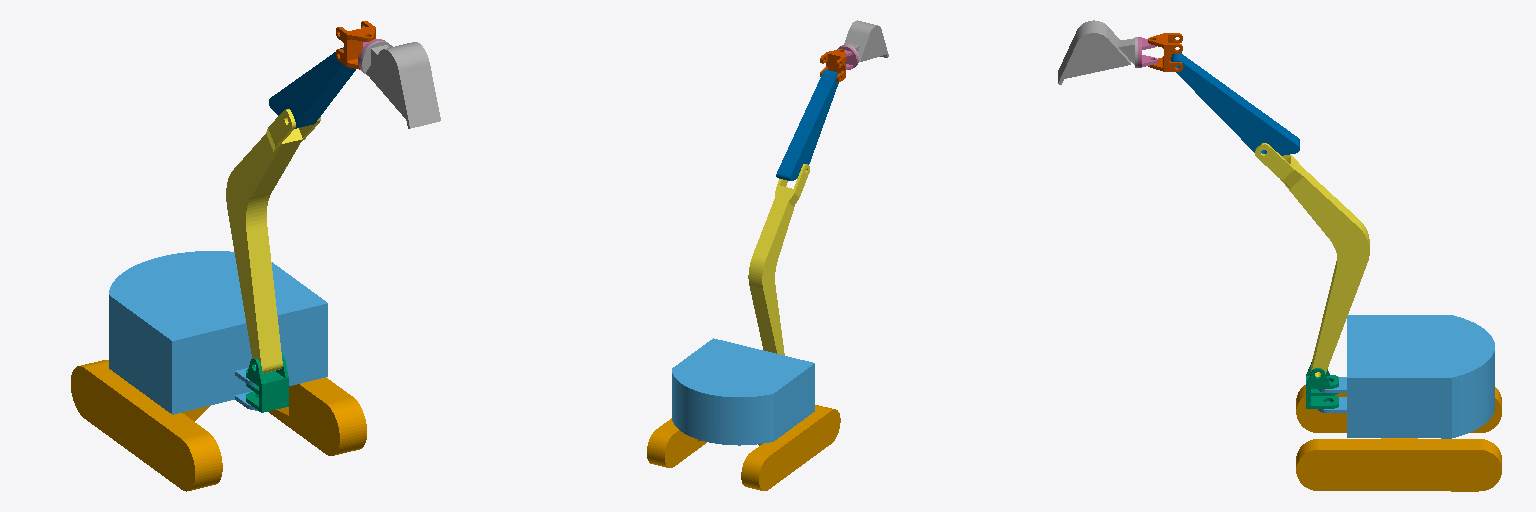
URDF robot description (bagger_kinematics_3):
<?xml version="1.0" ?>
<robot name="bagger_kinematics_3" xmlns:xacro="http://www.ros.org/wiki/xacro">

  <mujoco>
    <compiler meshdir="meshes/" balanceinertia="true" discardvisual="false"/>
  </mujoco>

<link name="base_link">
  <inertial>
    <origin xyz="0 0 0" rpy="0 0 0"/>
    <mass value="1"/>
    <inertia ixx="1" iyy="1" izz="1" ixy="0.0" iyz="0.0" ixz="0.0"/>
  </inertial>
  <visual>
    <origin xyz="0 0 0" rpy="1.57 0 0"/>
    <geometry>
      <mesh filename="base_link.stl" scale="0.001 0.001 0.001"/>
    </geometry>
    <material name="silver"/>
  </visual>
</link>

<link name="swing_body_1">
  <inertial>
    <origin xyz="0 0 0" rpy="0 0 0"/>
    <mass value="1"/>
    <inertia ixx="1" iyy="1" izz="1" ixy="0.0" iyz="0.0" ixz="0.0"/>
  </inertial>
  <visual>
    <origin xyz="0.0 0.0 0.0" rpy="0 0 0"/>
    <geometry>
      <mesh filename="swing_body_1.stl" scale="0.001 0.001 0.001"/>
    </geometry>
    <material name="silver"/>
  </visual>
</link>

<link name="bom_swing_1">
  <inertial>
    <origin xyz="0 0 0" rpy="0 0 0"/>
    <mass value="1"/>
    <inertia ixx="1" iyy="1" izz="1" ixy="0.0" iyz="0.0" ixz="0.0"/>
  </inertial>
  <visual>
    <origin xyz="0 0 0" rpy="0 0 0"/>
    <geometry>
      <mesh filename="bom_swing_1.stl" scale="0.001 0.001 0.001"/>
    </geometry>
    <material name="silver"/>
  </visual>
</link>

<link name="boom_1">
  <inertial>
    <origin xyz="0 0 0" rpy="0 0 0"/>
    <mass value="1"/>
    <inertia ixx="1" iyy="1" izz="1" ixy="0.0" iyz="0.0" ixz="0.0"/>
  </inertial>
  <visual>
    <origin xyz="0 0 0" rpy="0 0 0"/>
    <geometry>
      <mesh filename="boom_1.stl" scale="0.001 0.001 0.001"/>
    </geometry>
    <material name="silver"/>
  </visual>
</link>

<link name="stick_1">
  <inertial>
    <origin xyz="0 0 0" rpy="0 0 0"/>
    <mass value="1"/>
    <inertia ixx="1" iyy="1" izz="1" ixy="0.0" iyz="0.0" ixz="0.0"/>
  </inertial>
  <visual>
    <origin xyz="0 0 0" rpy="0 0 0"/>
    <geometry>
      <mesh filename="stick_1.stl" scale="0.001 0.001 0.001"/>
    </geometry>
    <material name="silver"/>
  </visual>

</link>

<link name="tilt_base_1">
  <inertial>
    <origin xyz="0 0 0" rpy="0 0 0"/>
    <mass value="1"/>
    <inertia ixx="1" iyy="1" izz="1" ixy="0.0" iyz="0.0" ixz="0.0"/>
  </inertial>
  <visual>
     <origin xyz="0 0 0" rpy="0 0 0"/>
    <geometry>
      <mesh filename="tilt_base_1.stl" scale="0.001 0.001 0.001"/>
    </geometry>
    <material name="silver"/>
  </visual>
</link>

<link name="tilt_1">
  <inertial>
    <origin xyz="0 0 0" rpy="0 0 0"/>
    <mass value="1"/>
    <inertia ixx="1" iyy="1" izz="1" ixy="0.0" iyz="0.0" ixz="0.0"/>
  </inertial>
  <visual>
     <origin xyz="0 0 0" rpy="0 0 0"/>
    <geometry>
      <mesh filename="tilt_1.stl" scale="0.001 0.001 0.001"/>
    </geometry>
    <material name="silver"/>
  </visual>
</link>

<link name="bucket_1">
  <inertial>
    <origin xyz="0 0 0" rpy="0 0 0"/>
    <mass value="1"/>
    <inertia ixx="1" iyy="1" izz="1" ixy="0.0" iyz="0.0" ixz="0.0"/>
  </inertial>
  <visual>
     <origin xyz="0 0 0" rpy="0 0 0"/>
    <geometry>
      <mesh filename="bucket_1.stl" scale="0.001 0.001 0.001"/>
    </geometry>
    <material name="silver"/>
  </visual>
</link>

<joint name="Revolute 1" type="continuous">
  <origin xyz="0.0 0.0 0.0" rpy="1.57 0 0"/>
  <parent link="base_link"/>
  <child link="swing_body_1"/>
  <axis xyz="0.0 1.0 0.0"/>
</joint>

<joint name="Revolute 2" type="continuous">
  <origin xyz="0 0.1 0.950" rpy="0 0 0"/>
  <parent link="swing_body_1"/>
  <child link="bom_swing_1"/>
  <axis xyz="0.0 -1.0 0.0"/>
</joint>

<joint name="Revolute 3" type="continuous">
  <origin xyz="0.135 0.5 0.140" rpy="0 0 0"/>
  <parent link="bom_swing_1"/>
  <child link="boom_1"/>
  <axis xyz="1.0 0.0 0.0"/>
</joint>

<joint name="Revolute 4" type="continuous">
  <origin xyz="0.0 3.310 0.734" rpy="0 0 0"/>
  <parent link="boom_1"/>
  <child link="stick_1"/>
  <axis xyz="1.0 0.0 0.0"/>
</joint>

<joint name="Revolute 5" type="continuous">
  <origin xyz="0.0 1.265 1.164" rpy="0 0 0"/>
  <parent link="stick_1"/>
  <child link="tilt_base_1"/>
  <axis xyz="1.0 0.0 0.0"/>
</joint>

<joint name="Revolute 6" type="continuous">
  <origin xyz="-0.13568 -0.015 0.329722" rpy="0 0 0"/>
  <parent link="tilt_base_1"/>
  <child link="tilt_1"/>
  <axis xyz="-0.0 1.0 0.0"/>
</joint>

<joint name="Revolute 7" type="continuous">
  <origin xyz="0.0 0.15 0.2" rpy="0 0 0"/>
  <parent link="tilt_1"/>
  <child link="bucket_1"/>
  <axis xyz="-0.0 -0.0 1.0"/>
</joint>

</robot>

--- Facts derived from the render (not from the file) ---
The picture shows the robot from 3 angles, left to right: view 1: azimuth 30°, elevation 25°; view 2: azimuth 150°, elevation 25°; view 3: azimuth 270°, elevation 25°; orthographic projection.
Robot: bagger_kinematics_3 — 8 links, 7 joints (7 continuous); root link base_link; default pose: all joints at 0.
Visible links, largest first — view 1: swing_body_1, base_link, boom_1, bucket_1, stick_1, bom_swing_1, tilt_base_1; view 2: swing_body_1, base_link, boom_1, stick_1, bucket_1, tilt_base_1; view 3: swing_body_1, base_link, boom_1, stick_1, bucket_1, bom_swing_1, tilt_base_1.
Link boxes in pixels (x1=…): swing_body_1: x1=109, y1=251, x2=327, y2=414; base_link: x1=71, y1=360, x2=366, y2=491; boom_1: x1=226, y1=109, x2=320, y2=373; bucket_1: x1=360, y1=41, x2=440, y2=128; stick_1: x1=269, y1=47, x2=355, y2=128; bom_swing_1: x1=246, y1=353, x2=288, y2=412; tilt_base_1: x1=336, y1=21, x2=375, y2=69; swing_body_1: x1=672, y1=338, x2=814, y2=445; base_link: x1=647, y1=405, x2=840, y2=490; boom_1: x1=748, y1=164, x2=809, y2=355; stick_1: x1=776, y1=70, x2=838, y2=180; bucket_1: x1=842, y1=20, x2=888, y2=64; tilt_base_1: x1=820, y1=49, x2=845, y2=81; swing_body_1: x1=1318, y1=315, x2=1494, y2=438; base_link: x1=1296, y1=385, x2=1501, y2=491; boom_1: x1=1255, y1=143, x2=1369, y2=376; stick_1: x1=1171, y1=53, x2=1299, y2=155; bucket_1: x1=1058, y1=20, x2=1137, y2=84; bom_swing_1: x1=1306, y1=362, x2=1338, y2=408; tilt_base_1: x1=1148, y1=33, x2=1182, y2=71.
Size in the robot's own frame: 2.2 by 5.98 by 6.39 metres.
Meshes: 8 distinct files referenced, 8 mesh visuals loaded (8 binary STL).
